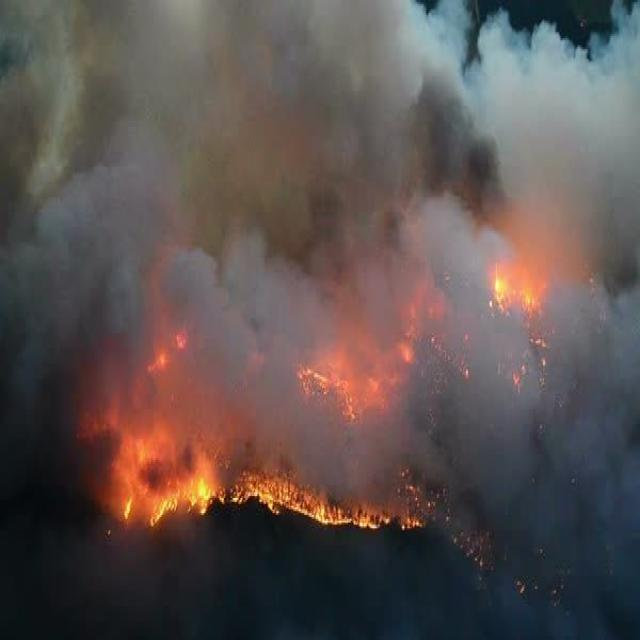Fire: (70, 254, 568, 596)
Smoke: (3, 0, 640, 489)
